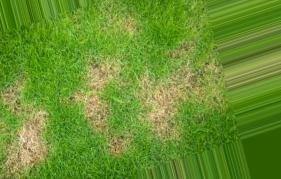patch: (10, 140, 51, 165), (136, 83, 175, 103), (79, 93, 108, 119), (23, 112, 47, 133), (178, 74, 195, 99), (3, 85, 26, 103), (146, 108, 170, 124), (115, 18, 140, 31), (85, 67, 114, 78), (91, 123, 107, 131)
